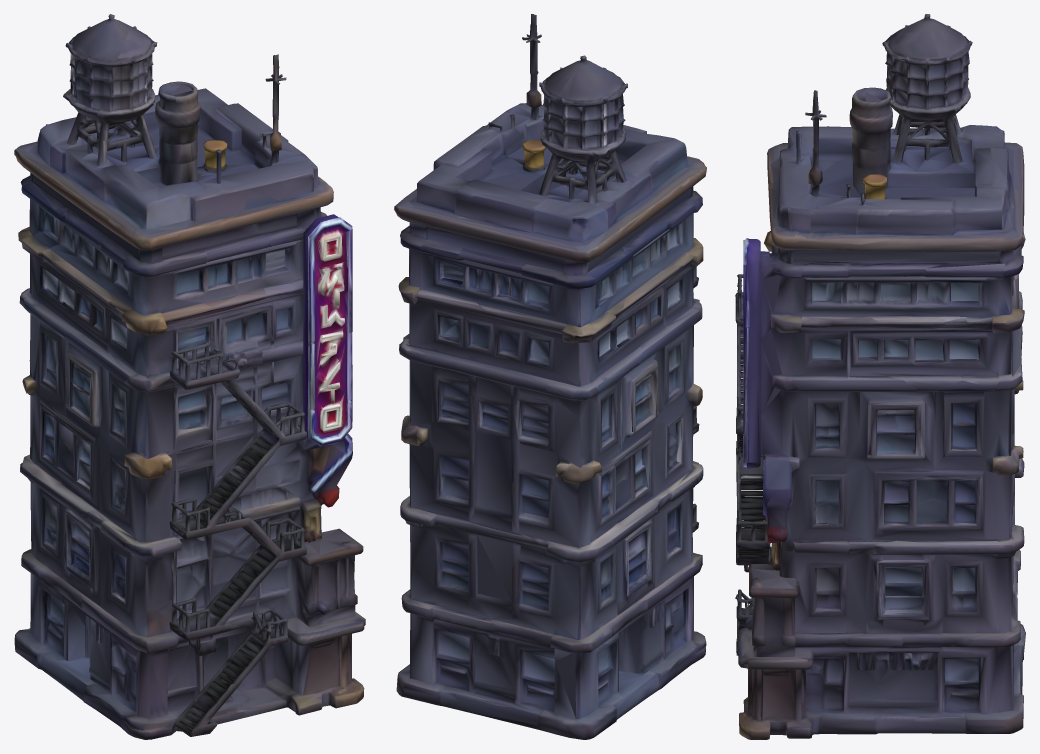
The model's file is bld_kuro_tower4f.fbx.
The picture shows the model from 3 angles, left to right: view 1: azimuth 30°, elevation 25°; view 2: azimuth 150°, elevation 25°; view 3: azimuth 270°, elevation 25°; orthographic projection. The views are drawn at different scales.
Visible parts, largest first — view 1: bld_kuro_tower4f_LOD0; view 2: bld_kuro_tower4f_LOD0; view 3: bld_kuro_tower4f_LOD0.
Boxes of the visible parts, left/top/right/bottom form: bld_kuro_tower4f_LOD0: left=14, top=14, right=365, bottom=739; bld_kuro_tower4f_LOD0: left=394, top=14, right=706, bottom=739; bld_kuro_tower4f_LOD0: left=735, top=14, right=1025, bottom=739.
Size of what is drawn, in the model's own units: 0.3401 by 0.9802 by 0.3979.
